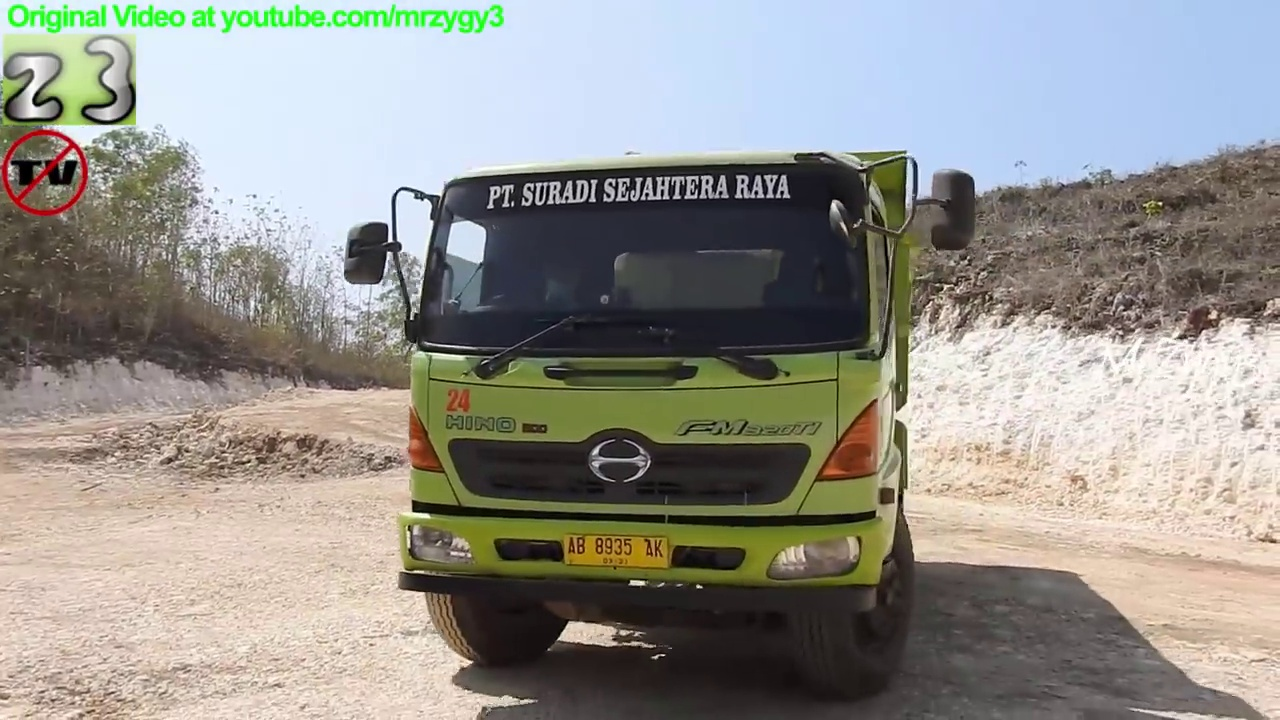truck: (334, 140, 985, 706)
